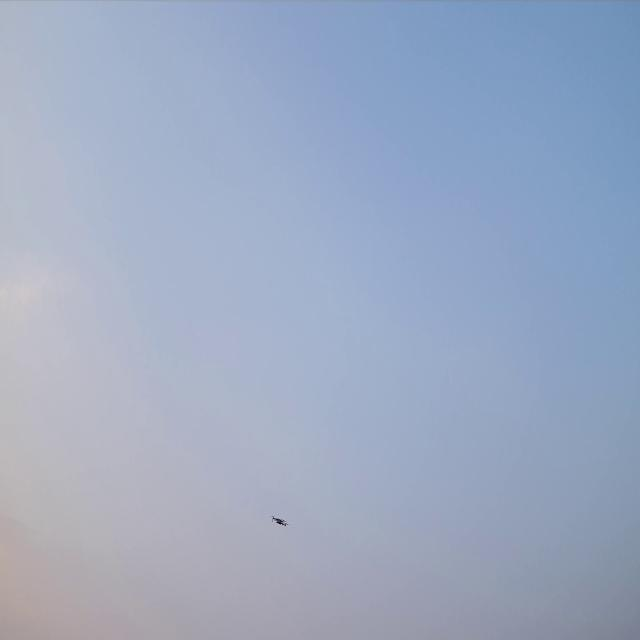UAV: (270, 512, 288, 528)
